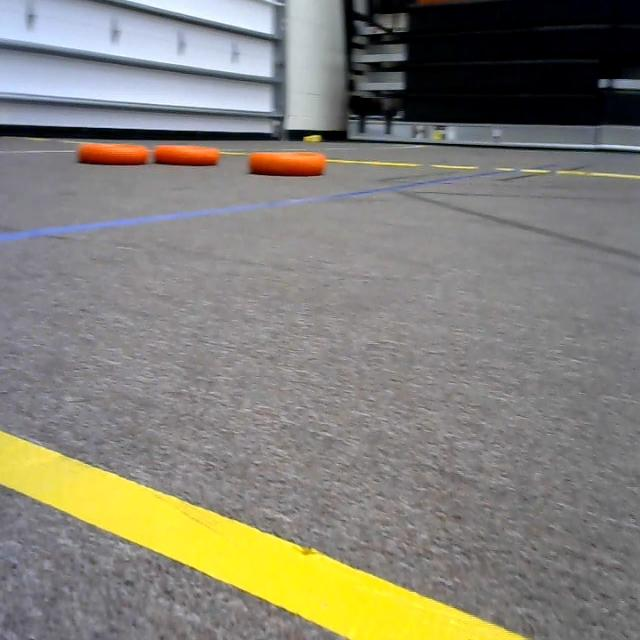note: (70, 130, 151, 177), (246, 141, 326, 182), (153, 132, 227, 166)
